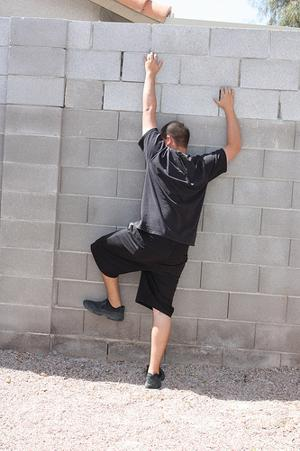person: (83, 52, 242, 391)
